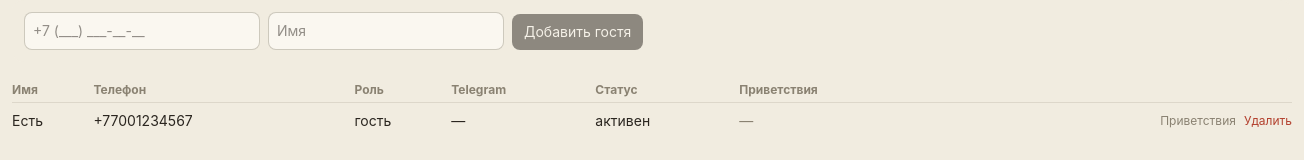
Test case: добавление существующего показывает ошибку
Type "7001234567" into the field with test id "add-phone".
click(142, 31); type("7001234567")  # box x1=24 y1=12 x2=260 y2=50
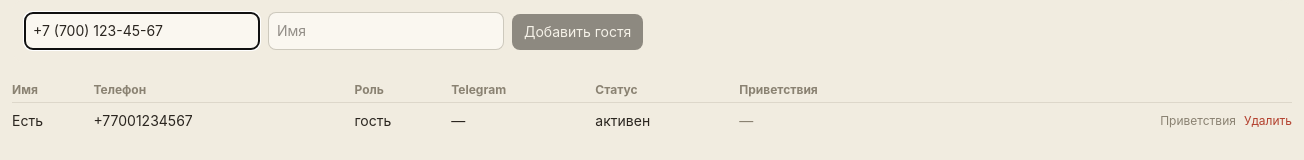
Type "Дубль" into the field labelled "Имя".
click(386, 31); type("Дубль")  # box x1=268 y1=12 x2=504 y2=50
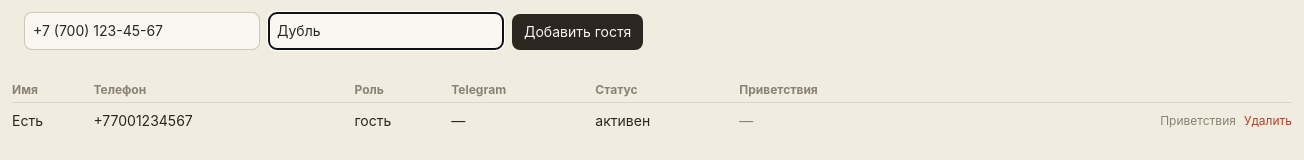
Click the button "Добавить гостя".
click(578, 32)  # box x1=512 y1=14 x2=643 y2=50
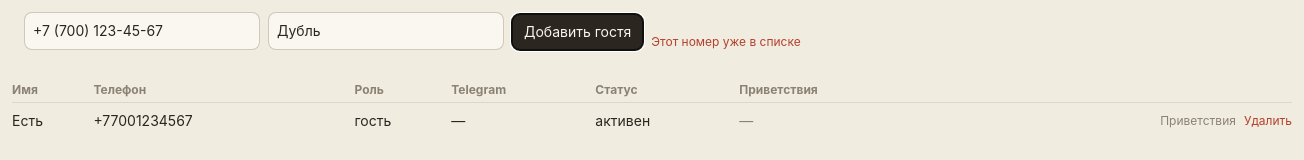
Result: the text "Этот номер уже в списке" is shown at x1=651 y1=34 x2=801 y2=50
